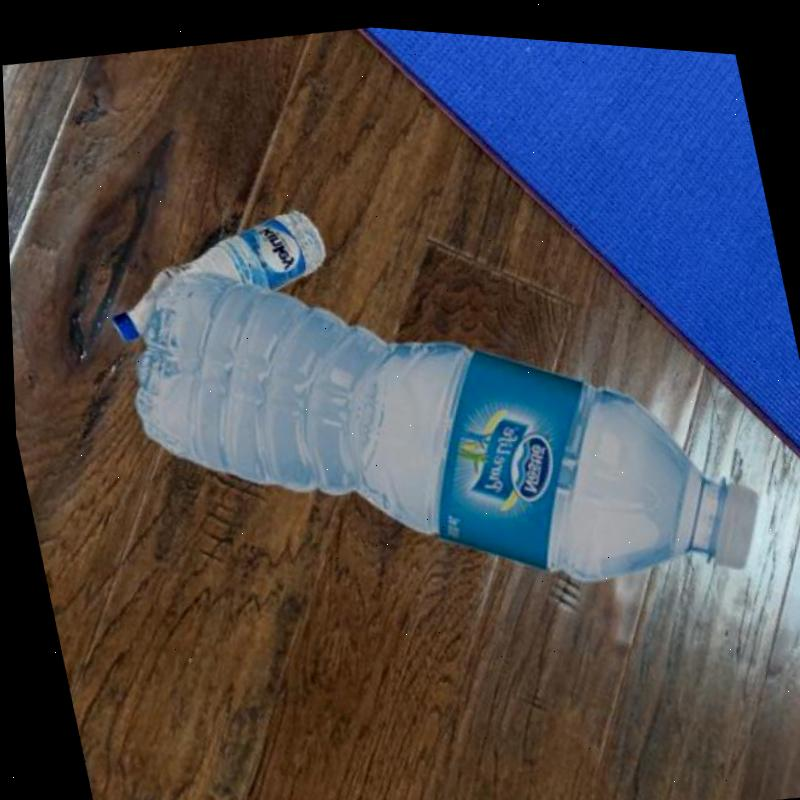botella: (100, 172, 772, 658), (92, 190, 341, 354)
